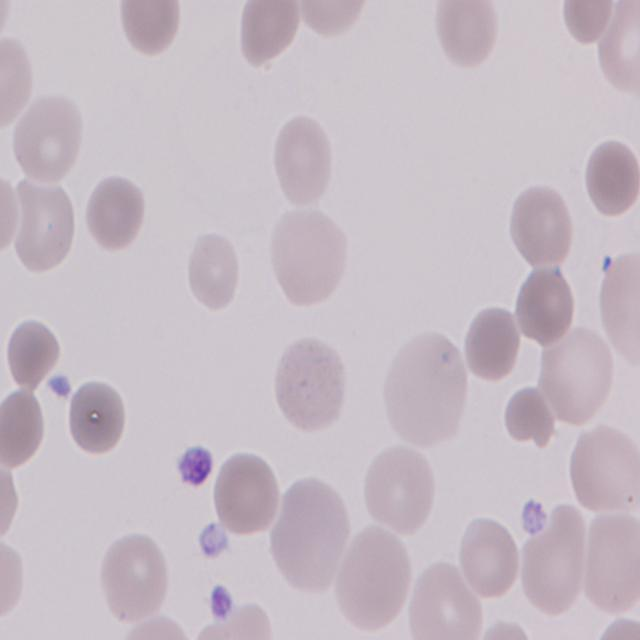Platelets: (176, 448, 212, 493), (48, 374, 76, 406)
RBC: (384, 332, 474, 452), (268, 477, 350, 598), (336, 522, 416, 636), (268, 202, 352, 308), (269, 332, 350, 436), (535, 326, 612, 428), (363, 438, 441, 536), (516, 510, 587, 615), (98, 530, 173, 629), (10, 87, 86, 183), (565, 422, 640, 514), (270, 111, 338, 207), (10, 181, 77, 274), (505, 184, 577, 267), (210, 450, 280, 534), (411, 557, 481, 640), (456, 514, 522, 600), (514, 261, 578, 344), (83, 173, 146, 256), (183, 226, 244, 308), (434, 0, 502, 67), (238, 0, 304, 66), (598, 0, 640, 96), (0, 32, 38, 130), (116, 0, 182, 56), (298, 0, 368, 41), (560, 0, 618, 47), (0, 532, 25, 625), (111, 616, 191, 640), (0, 446, 20, 542), (0, 172, 19, 256), (474, 619, 542, 640), (588, 618, 640, 639)
Spherocyte: (62, 377, 128, 458), (582, 135, 640, 220), (463, 304, 523, 384), (0, 384, 50, 468), (6, 319, 59, 392)
